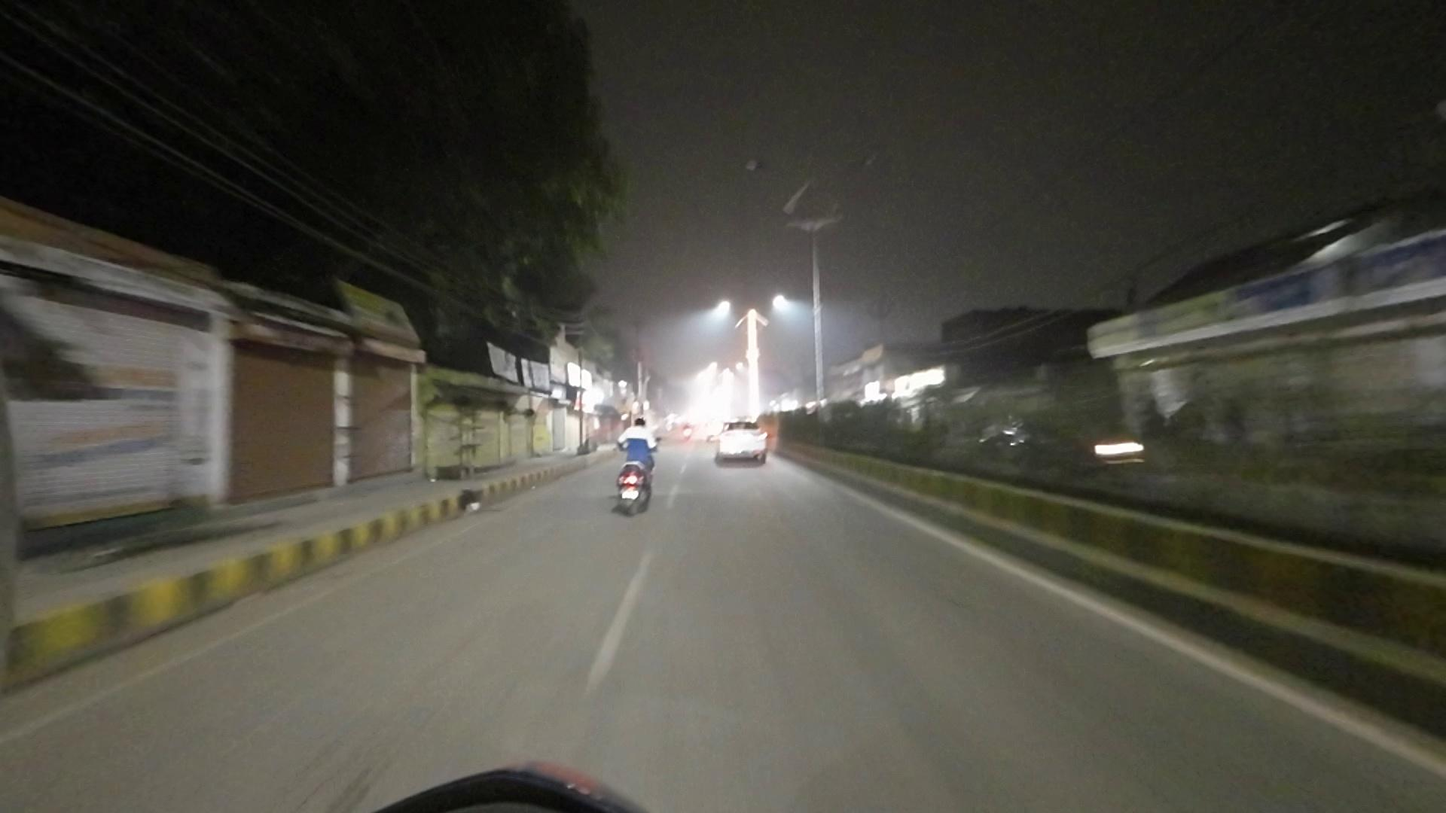streetlight: (745, 156, 805, 183), (818, 150, 879, 173)
